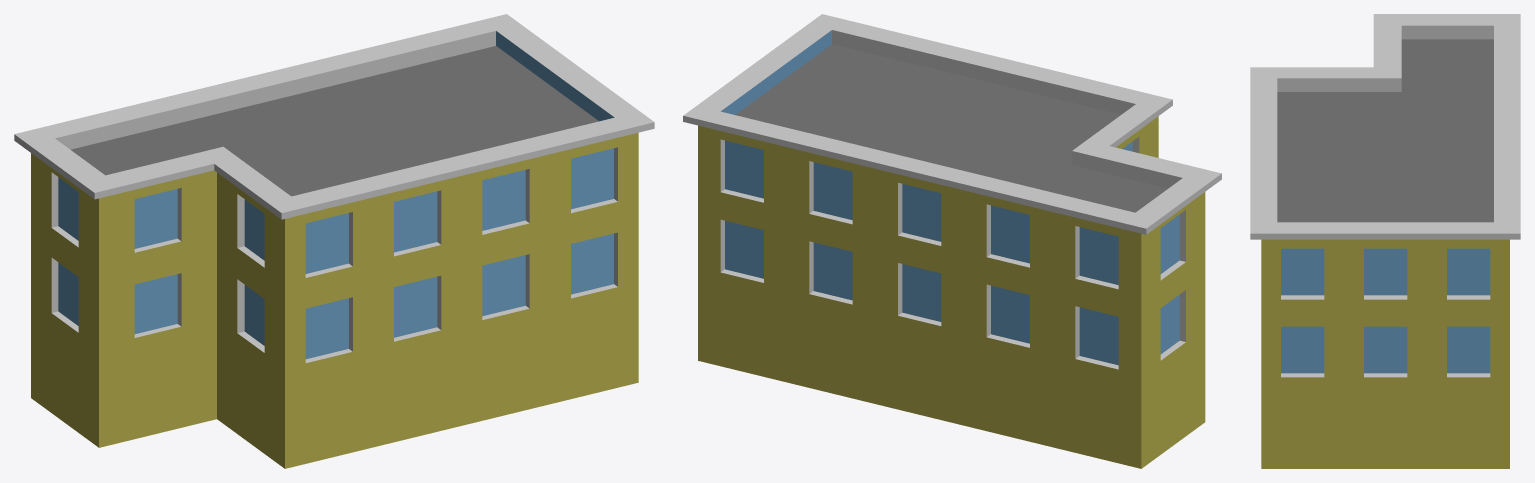
Rendered from building6.fbx.
The picture shows the model from 3 angles, left to right: view 1: azimuth 30°, elevation 25°; view 2: azimuth 150°, elevation 25°; view 3: azimuth 270°, elevation 25°; orthographic projection. The views are drawn at different scales.
Visible parts, largest first — view 1: polySurface12; view 2: polySurface12; view 3: polySurface12.
Boxes of the visible parts, x1,y1,x2,y2 form: polySurface12: [14, 14, 654, 468]; polySurface12: [683, 14, 1221, 468]; polySurface12: [1250, 14, 1520, 468].
Size of the model in its own units: 110 by 55.83 by 57.01.
